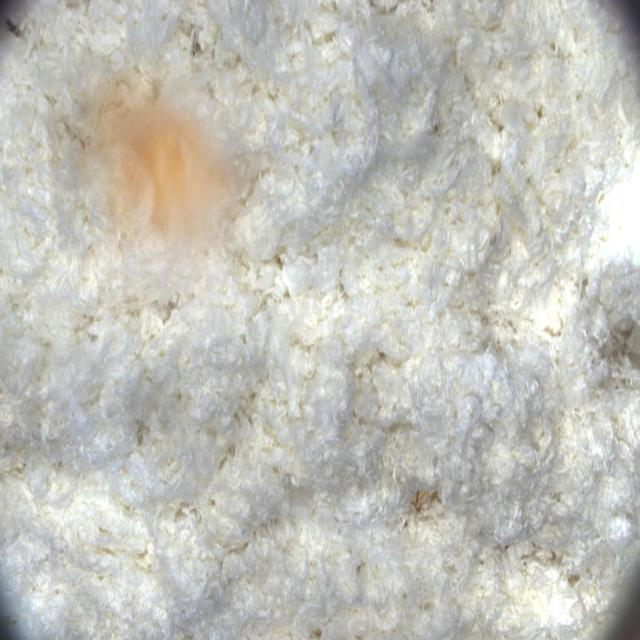dust: (48, 61, 270, 341)
